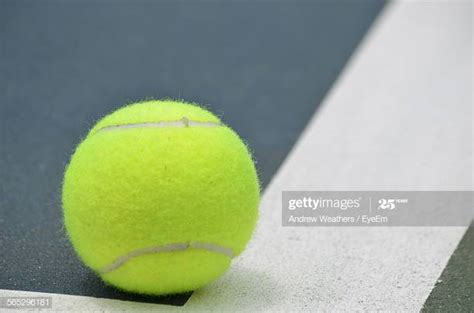tennis_ball: (62, 98, 260, 296)
